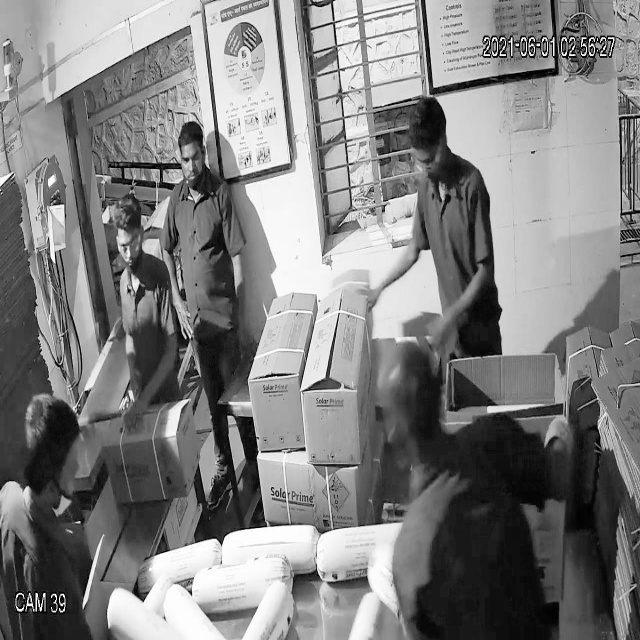Gafas: (412, 138, 449, 180), (112, 227, 145, 260)
